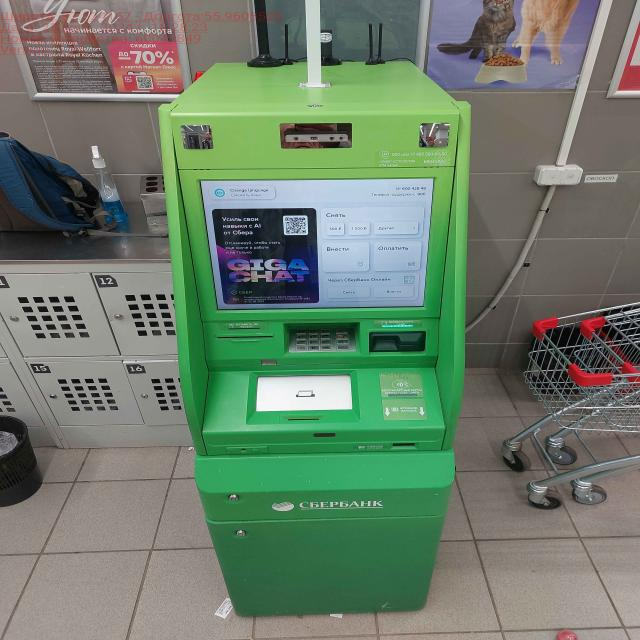bank: (158, 60, 466, 620)
